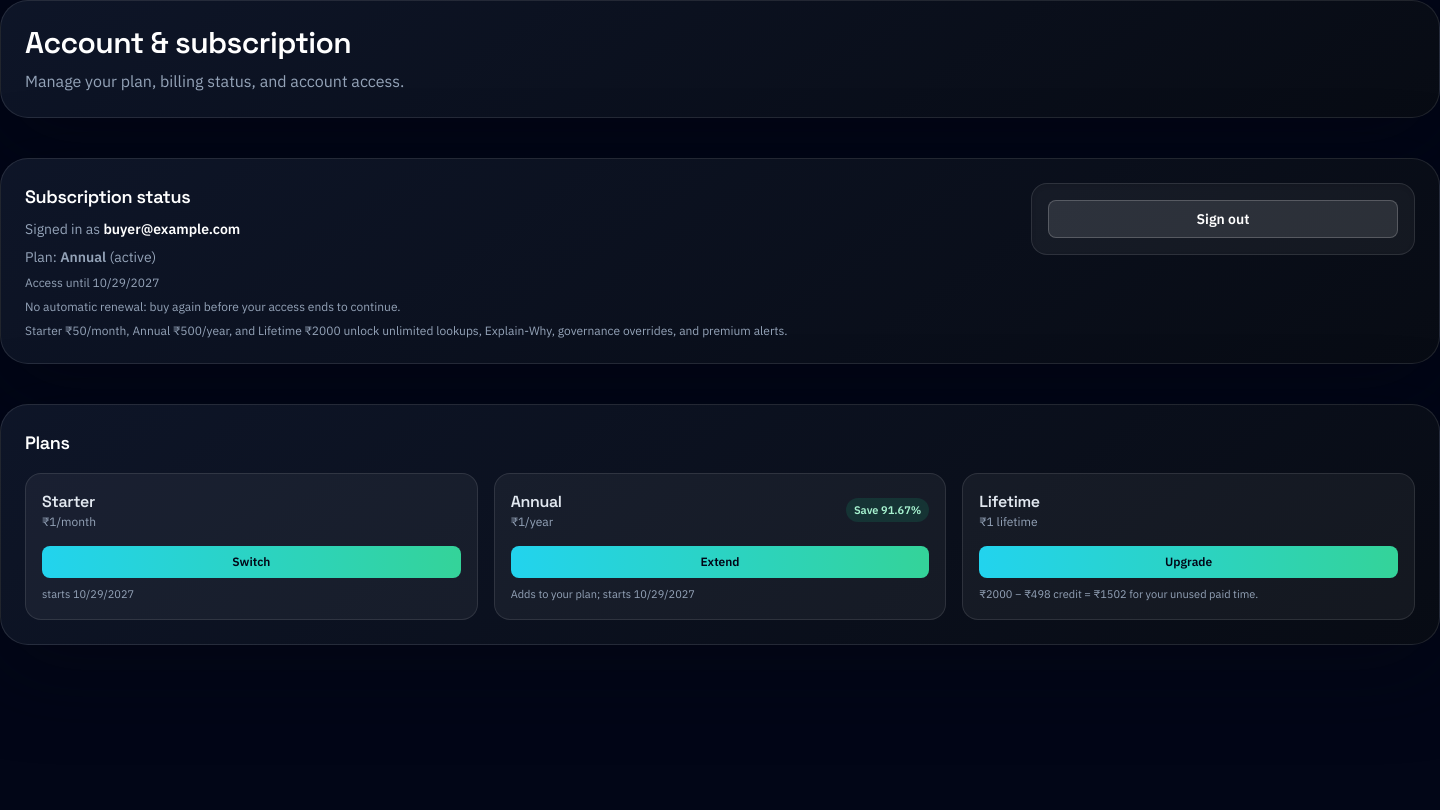
Test case: Lifetime upgrade credit on the account page › pays the previewed price without asking again
Click the button "Upgrade" at [1189, 562], box [979,546,1398,578]
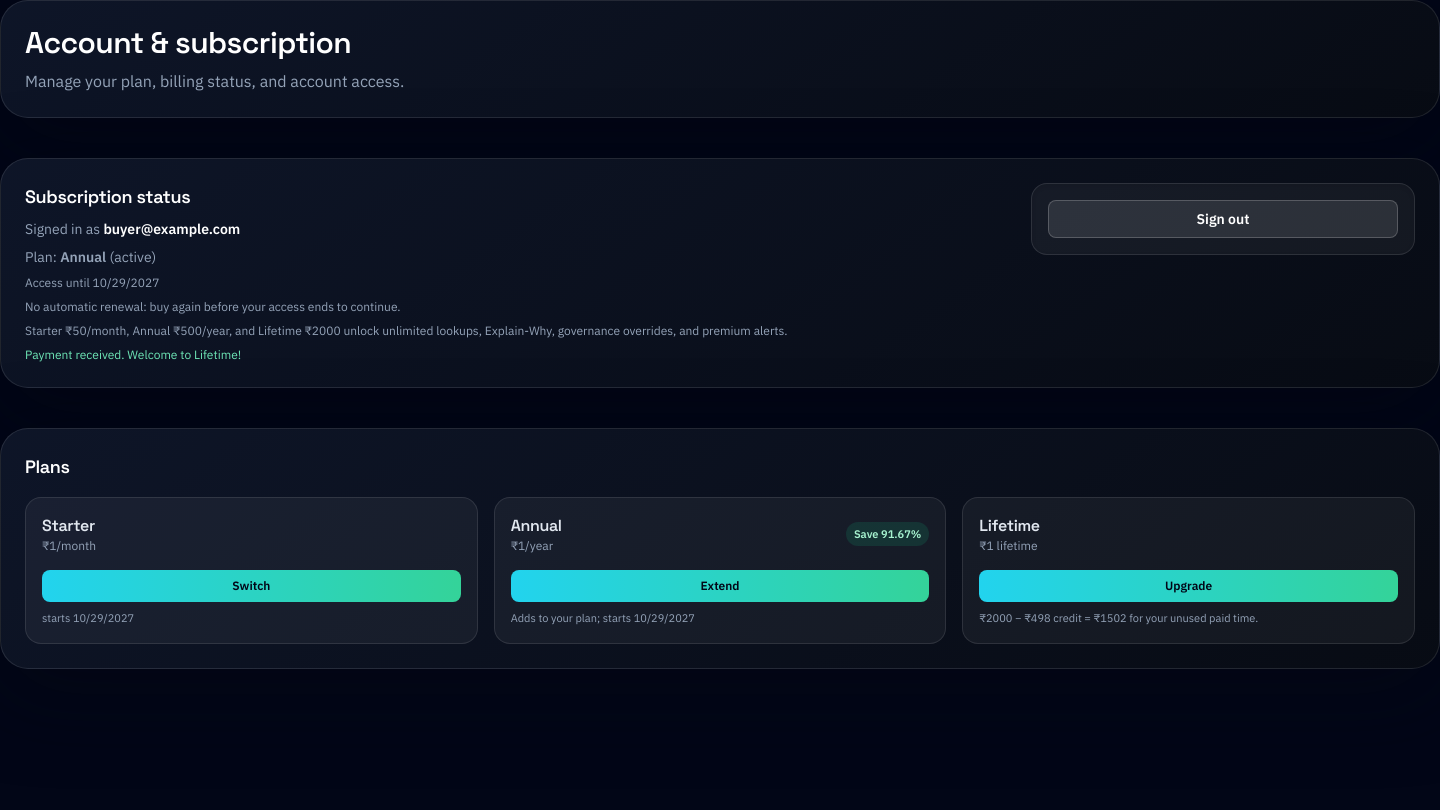
Expected: the text "Payment received. Welcome to Lifetime!" is shown, [25,347,241,362]
